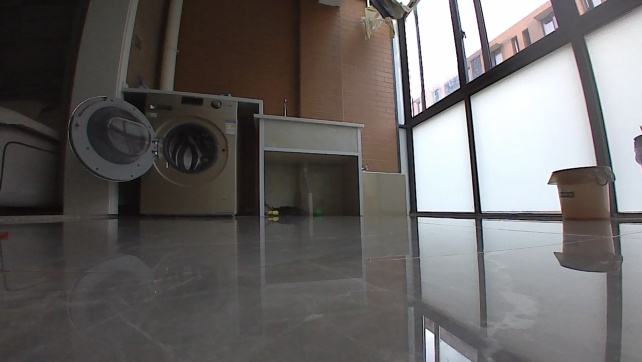sofa1: (0, 85, 64, 214)
washing_machine: (64, 88, 239, 220)
